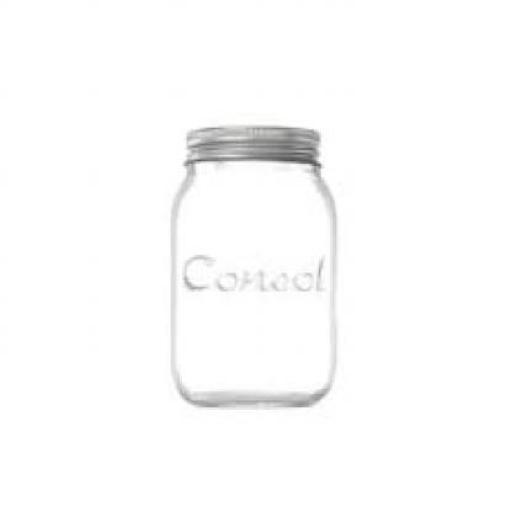glass: (171, 159, 334, 403)
metal: (182, 123, 319, 155)
